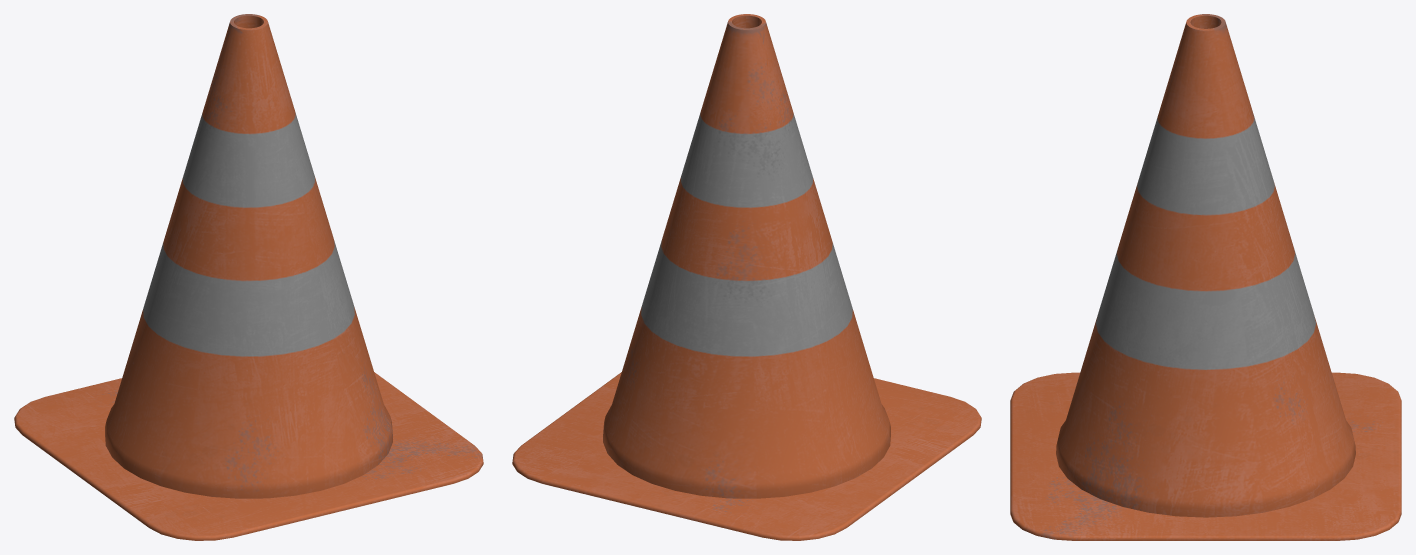
The model's file is realistic_cone.glb.
3 renders of one model, left to right at view 1: azimuth 30°, elevation 25°; view 2: azimuth 150°, elevation 25°; view 3: azimuth 270°, elevation 25°, orthographic. The views are drawn at different scales.
Visible parts, largest first — view 1: Plane; view 2: Plane; view 3: Plane.
Part boxes in pixels (x1,y1,x2,y2): Plane: (14, 14, 483, 540); Plane: (512, 14, 981, 540); Plane: (1010, 14, 1401, 540).
Size of the model in its own units: 1.98 by 2.43 by 1.98.
Materials: 1 (1 with a texture image).
